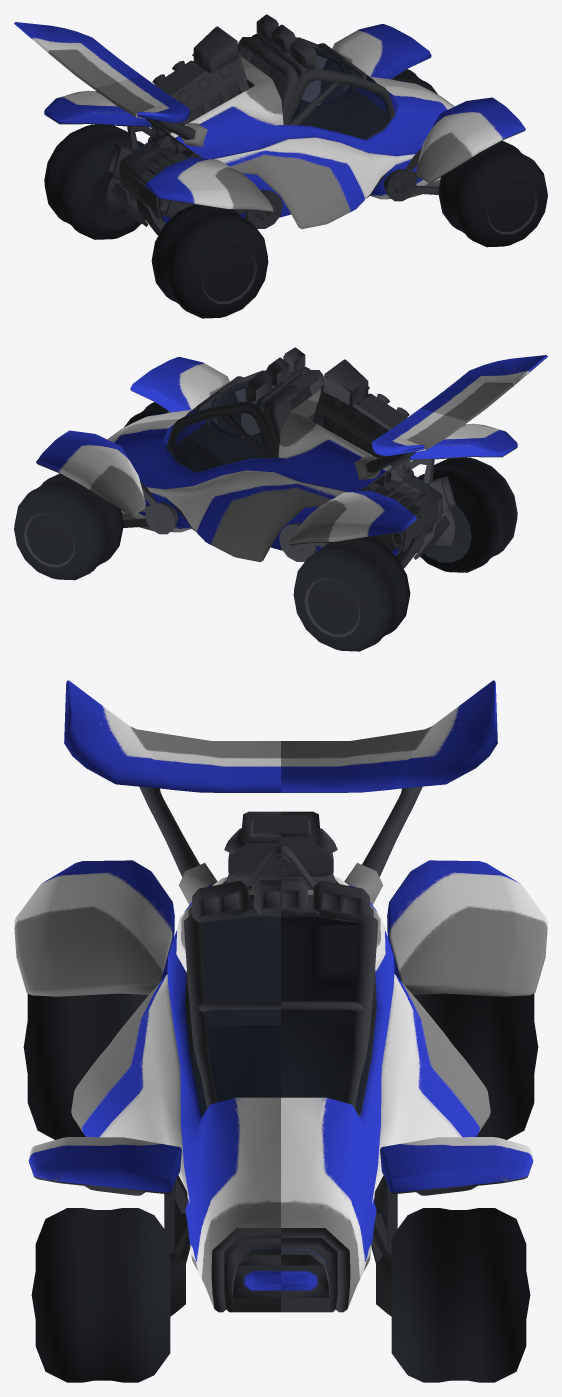
Rendered from octane.obj.
3 views of the same model, one above another, from view 1: azimuth 30°, elevation 25°; view 2: azimuth 150°, elevation 25°; view 3: azimuth 270°, elevation 25° (orthographic). The views are drawn at different scales.
Bounding box in the file's own units: 2.07 × 1.08 × 1.35.
3 materials, 2 textured.
